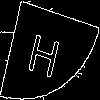H: (25, 25, 65, 79)
